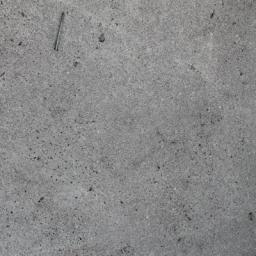FOD: (52, 9, 71, 56)
